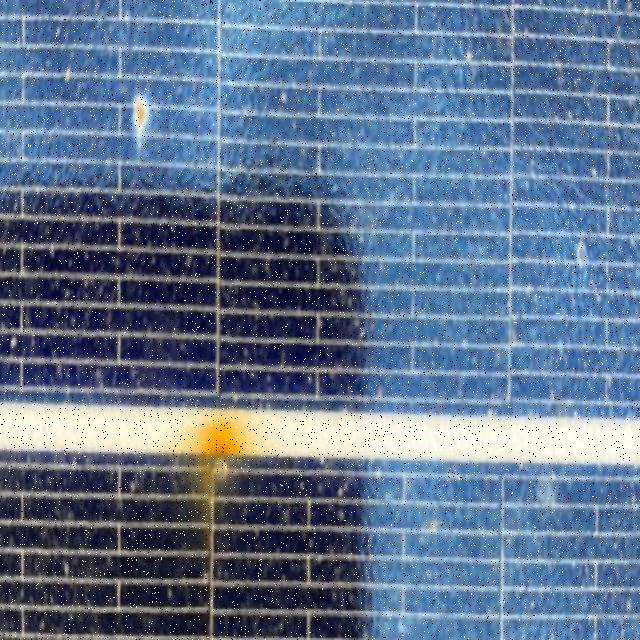electrical damage: (6, 12, 638, 640)
